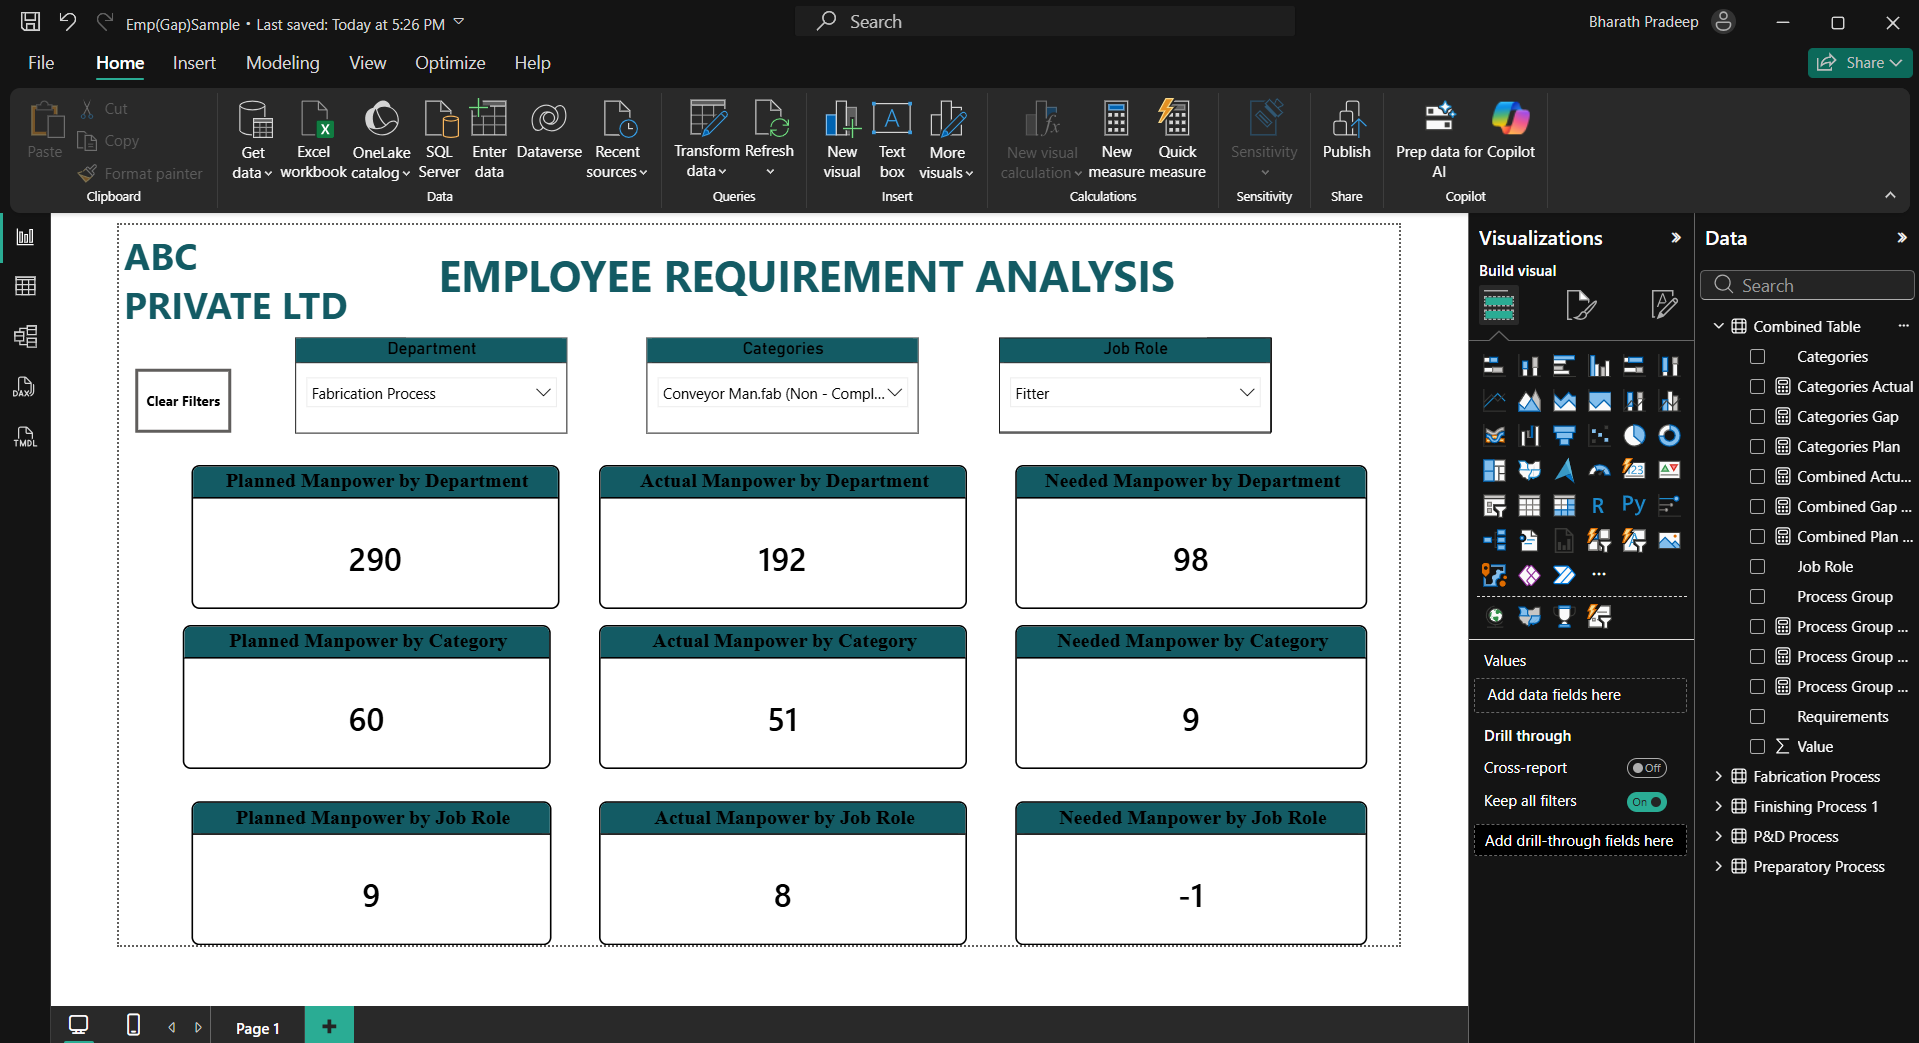

The page's visual inventory and layout, read from the dashboard file:
{"tool":"powerbi","page":{"name":"Page 1","canvas":[1280,720],"ordinal":0},"visuals":[{"type":"slicer","title":"Job Role","fields":{"Values":["Combined Table.Job Role"]},"box":[880,112,272,96],"z":0},{"type":"slicer","title":"Department","fields":{"Values":["Combined Table.Process Group"]},"box":[176,112,272,96],"z":1000},{"type":"cardVisual","title":"Actual Manpower by Job Role","fields":{"Data":["Combined Table.Combined Actual Total"]},"box":[480,576,368,144],"z":2000},{"type":"cardVisual","title":"Planned Manpower by Job Role","fields":{"Data":["Combined Table.Combined Plan Total"]},"box":[72,576,360,144],"z":3000},{"type":"cardVisual","title":"Needed Manpower by Job Role","fields":{"Data":["Combined Table.Combined Gap Total"]},"box":[896,576,352,144],"z":4000},{"type":"slicer","title":"Categories","fields":{"Values":["Combined Table.Categories"]},"box":[528,112,272,96],"z":5000},{"type":"cardVisual","title":"Actual Manpower by Category","fields":{"Data":["Combined Table.Categories Actual"]},"box":[480,400,368,144],"z":6000},{"type":"cardVisual","title":"Planned Manpower by Category","fields":{"Data":["Combined Table.Categories Plan"]},"box":[64,400,368,144],"z":7000},{"type":"cardVisual","title":"Needed Manpower by Category","fields":{"Data":["Combined Table.Categories Gap"]},"box":[896,400,352,144],"z":8000},{"type":"cardVisual","title":"Actual Manpower by Department","fields":{"Data":["Combined Table.Process Group Actual"]},"box":[480,240,368,144],"z":9000},{"type":"cardVisual","title":"Planned Manpower by Department","fields":{"Data":["Combined Table.Process Group Plan"]},"box":[72,240,368,144],"z":10000},{"type":"cardVisual","title":"Needed Manpower by Department","fields":{"Data":["Combined Table.Process Group Gap"]},"box":[896,240,352,144],"z":11000},{"type":"textbox","box":[288,16,800,96],"z":13000},{"type":"actionButton","title":"Clear Filters","box":[16,144,96,64],"z":14000},{"type":"textbox","box":[0,0,288,112],"z":14001}]}

Visuals, with their boxes on the page's 1280x720 design canvas (x1, y1, x2, y2). These are canvas units, not pixel positions in the 1919x1043 screenshot, which may show the page scaled, cropped or inside an application window:
"Job Role" slicer: x1=880, y1=112, x2=1152, y2=208
"Department" slicer: x1=176, y1=112, x2=448, y2=208
"Actual Manpower by Job Role" cardVisual: x1=480, y1=576, x2=848, y2=720
"Planned Manpower by Job Role" cardVisual: x1=72, y1=576, x2=432, y2=720
"Needed Manpower by Job Role" cardVisual: x1=896, y1=576, x2=1248, y2=720
"Categories" slicer: x1=528, y1=112, x2=800, y2=208
"Actual Manpower by Category" cardVisual: x1=480, y1=400, x2=848, y2=544
"Planned Manpower by Category" cardVisual: x1=64, y1=400, x2=432, y2=544
"Needed Manpower by Category" cardVisual: x1=896, y1=400, x2=1248, y2=544
"Actual Manpower by Department" cardVisual: x1=480, y1=240, x2=848, y2=384
"Planned Manpower by Department" cardVisual: x1=72, y1=240, x2=440, y2=384
"Needed Manpower by Department" cardVisual: x1=896, y1=240, x2=1248, y2=384
textbox: x1=288, y1=16, x2=1088, y2=112
"Clear Filters" actionButton: x1=16, y1=144, x2=112, y2=208
textbox: x1=0, y1=0, x2=288, y2=112
